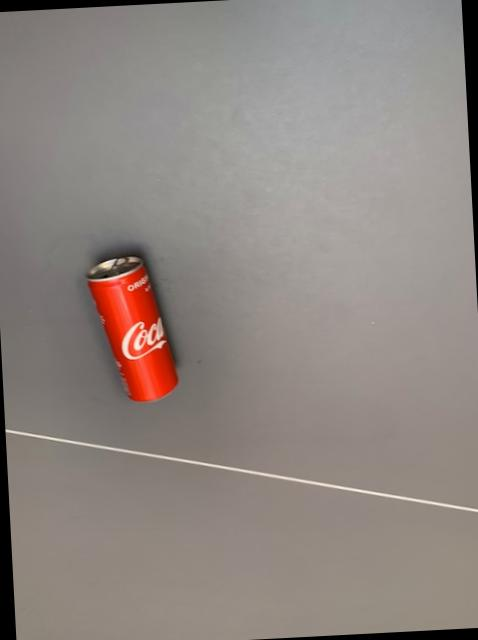metal: (86, 255, 176, 399)
